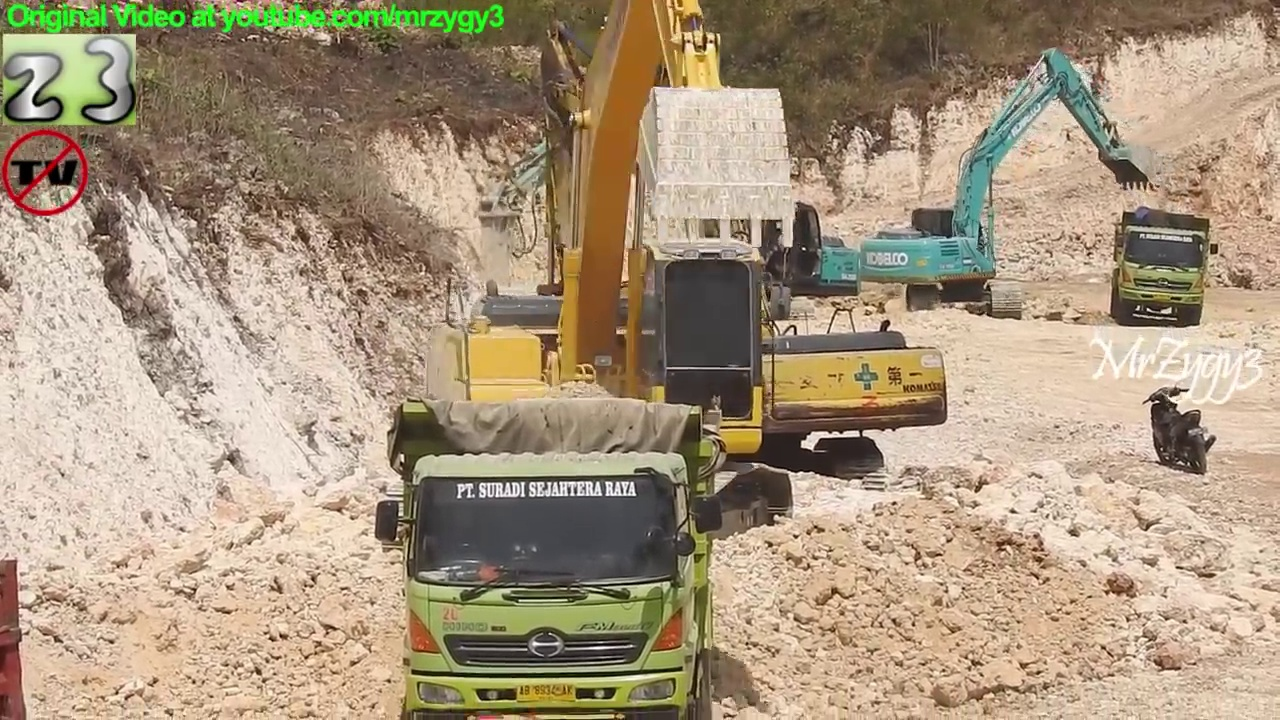excavator: (369, 1, 803, 572), (523, 12, 958, 513), (471, 79, 865, 334), (853, 40, 1160, 323)
truck: (369, 395, 732, 720), (1105, 206, 1223, 328), (1, 554, 30, 720)
